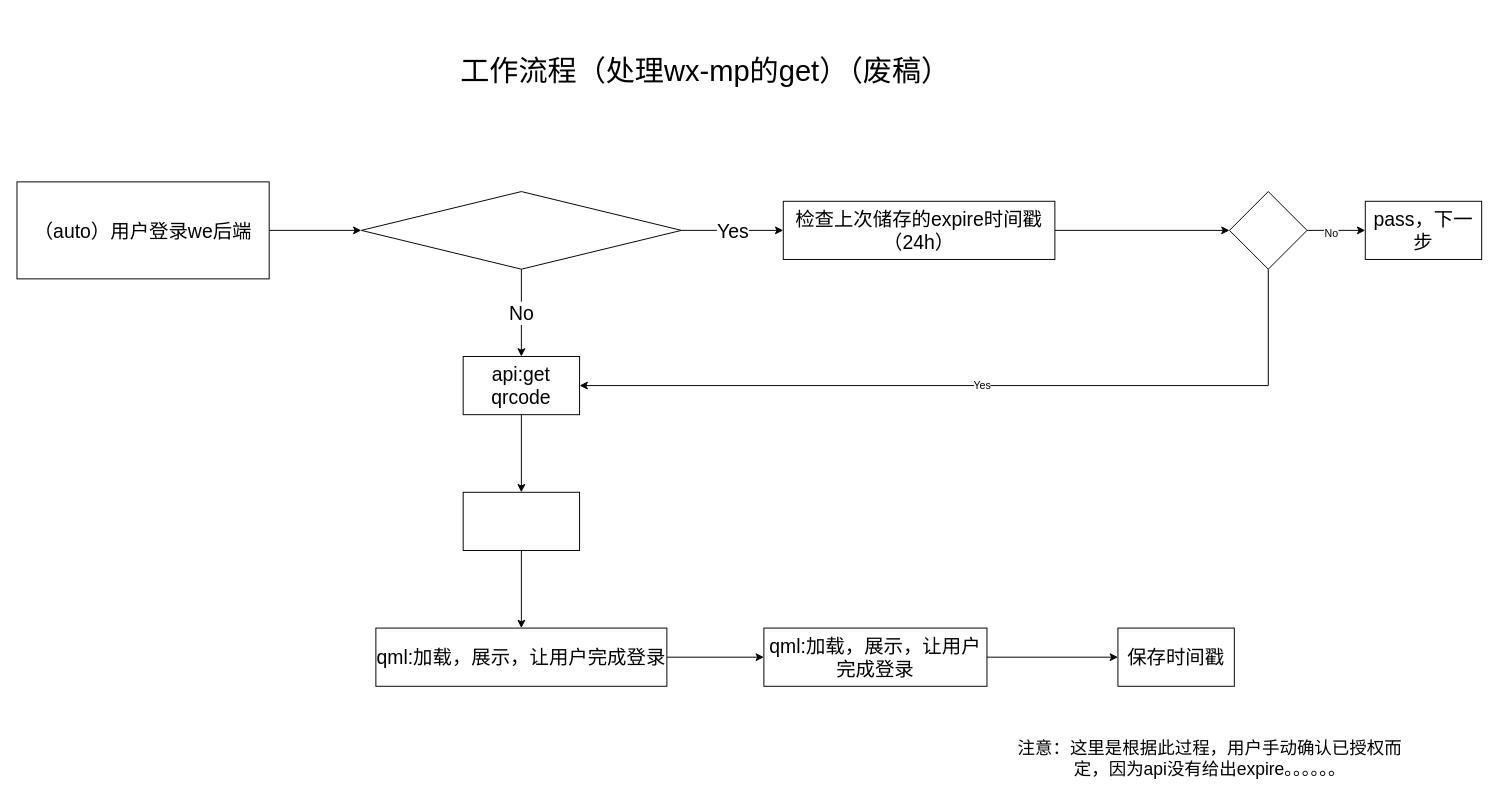
The diagram is 1499 pixels wide and 799 high, and some of its shapes have lost their labels. Each missing label, with the centre of its shape:
api:get qrcode img: [521,520]
expire？: [1268,230]
是否登陆过wxmp？: [520,230]
